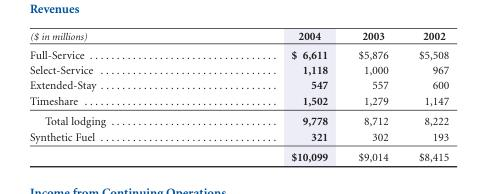table: (28, 29, 448, 162)
table column: (28, 29, 197, 162), (197, 29, 342, 162), (342, 29, 402, 162), (402, 29, 448, 162)
table column header: (28, 29, 448, 44)
table row: (28, 44, 448, 62), (28, 92, 448, 110), (28, 110, 448, 128), (28, 128, 448, 146), (28, 146, 448, 162), (28, 29, 448, 44), (28, 62, 448, 77), (28, 77, 448, 92)
